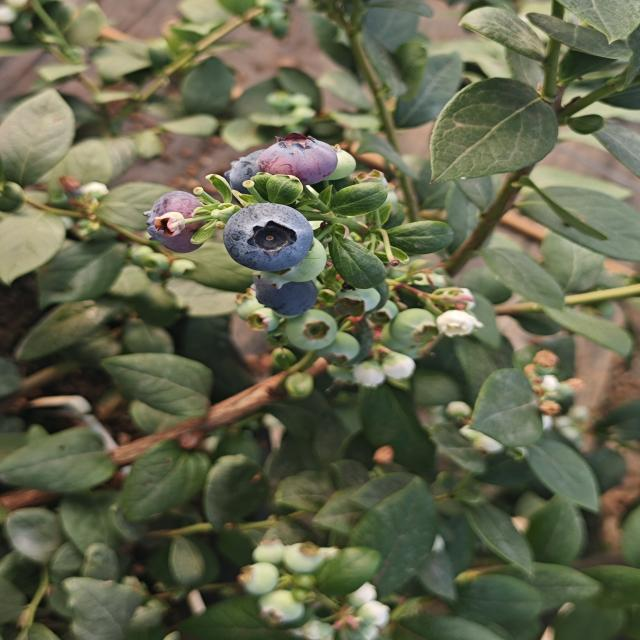ripe: (218, 209, 314, 267), (141, 188, 222, 255), (255, 132, 347, 183), (247, 263, 319, 319), (226, 146, 280, 192)
